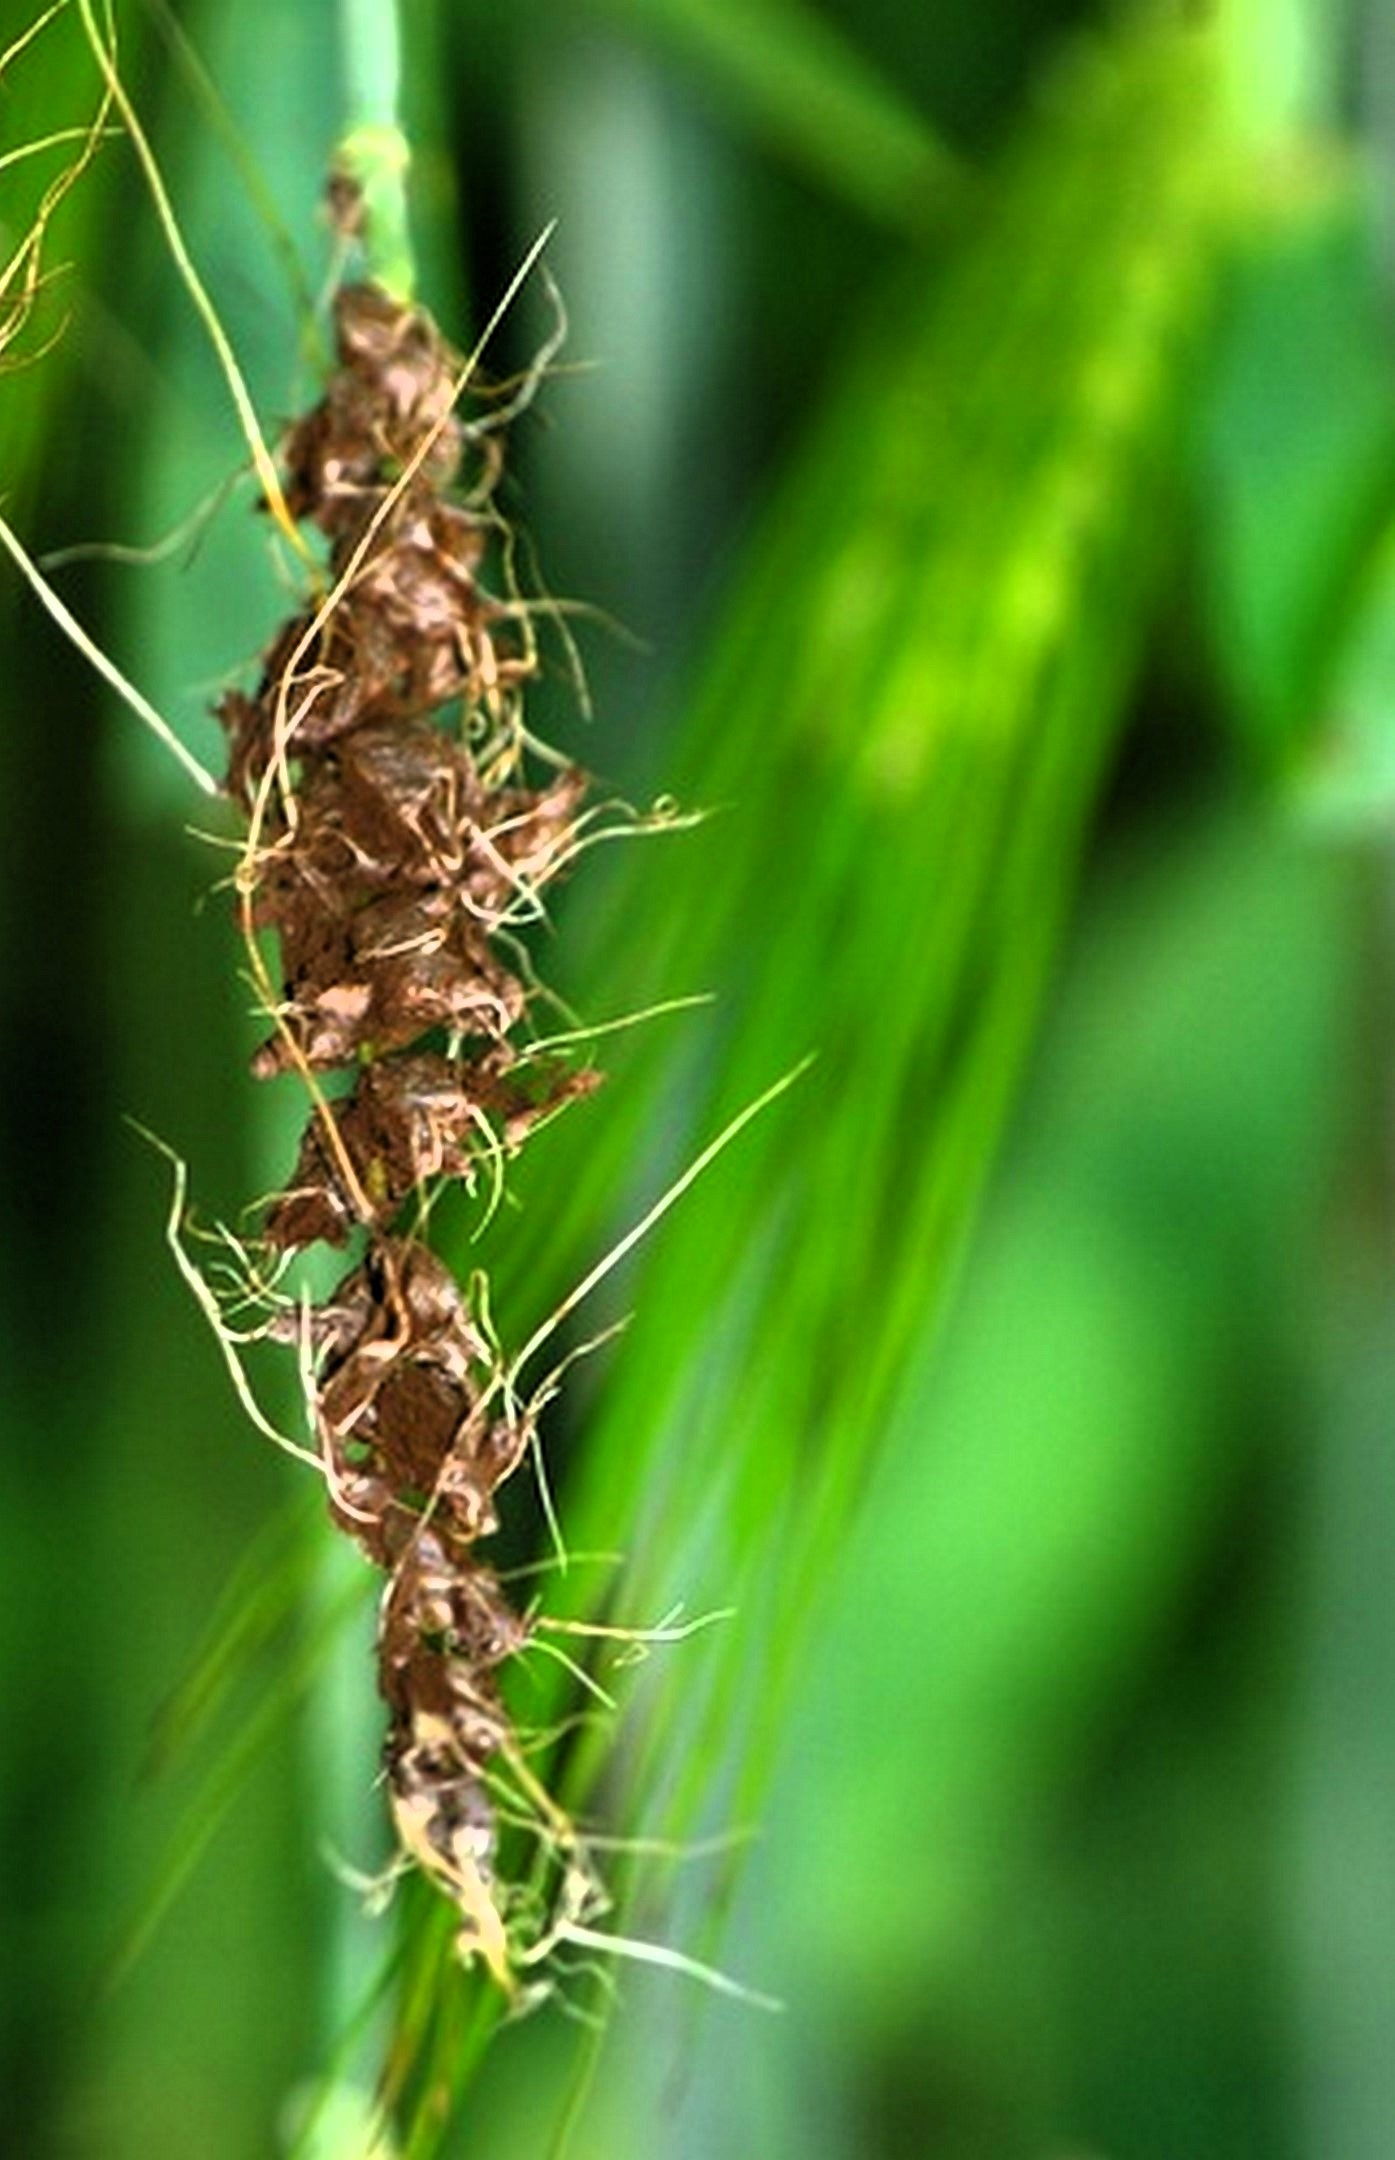Wheat Loose Smut: (164, 594, 746, 2012)
